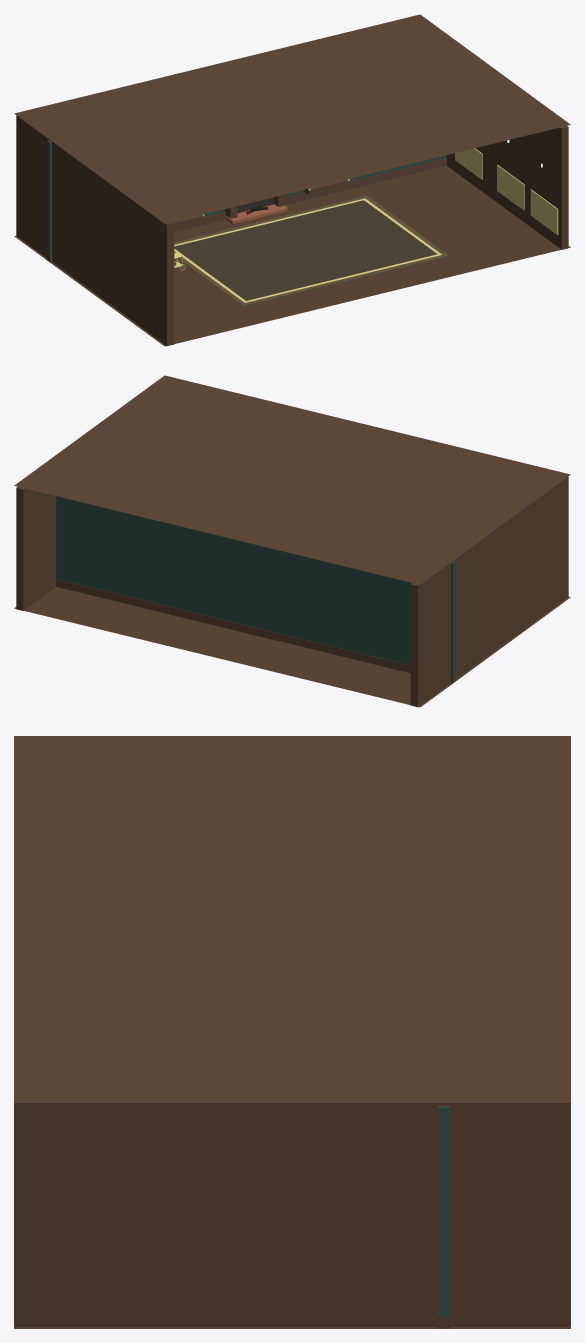
File: room_classic_club_premium.glb
3 renders of one model, top to bottom at view 1: azimuth 30°, elevation 25°; view 2: azimuth 150°, elevation 25°; view 3: azimuth 270°, elevation 25°, orthographic. The views are drawn at different scales.
Parts seen in each view (by area): view 1: ClassicZone_0; view 2: ClassicZone_0; view 3: ClassicZone_0.
Part boxes in pixels (<box>): ClassicZone_0: <box>14,14,570,346</box>; ClassicZone_0: <box>14,375,570,707</box>; ClassicZone_0: <box>14,736,570,1328</box>.
Bounding box in the file's own units: 28 × 8.1 × 18.
